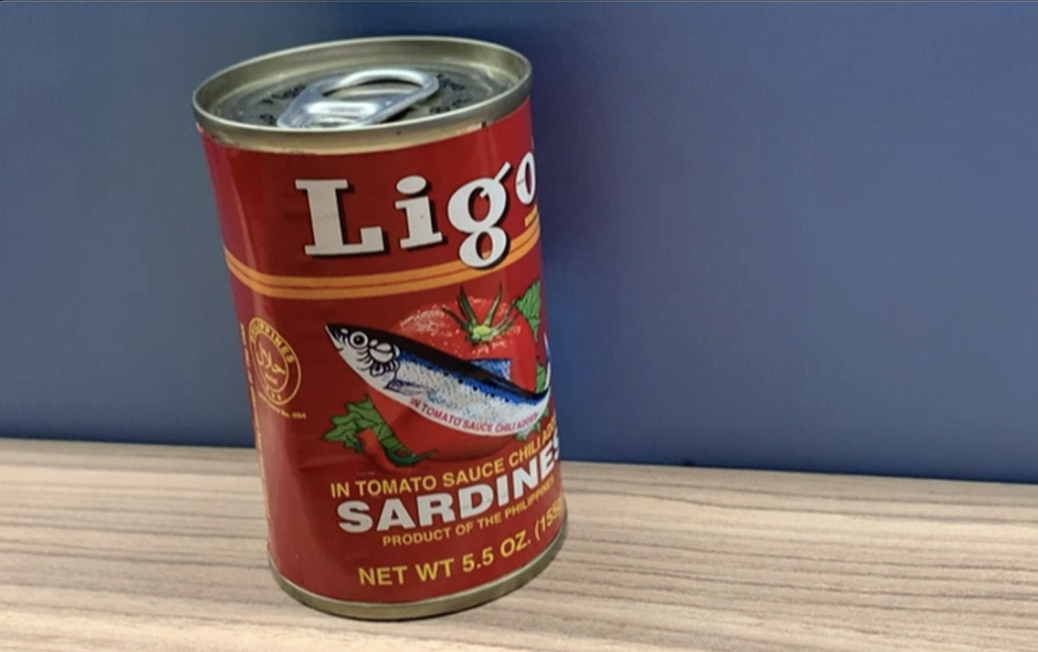sardines_100g-199g: (252, 92, 553, 572)
